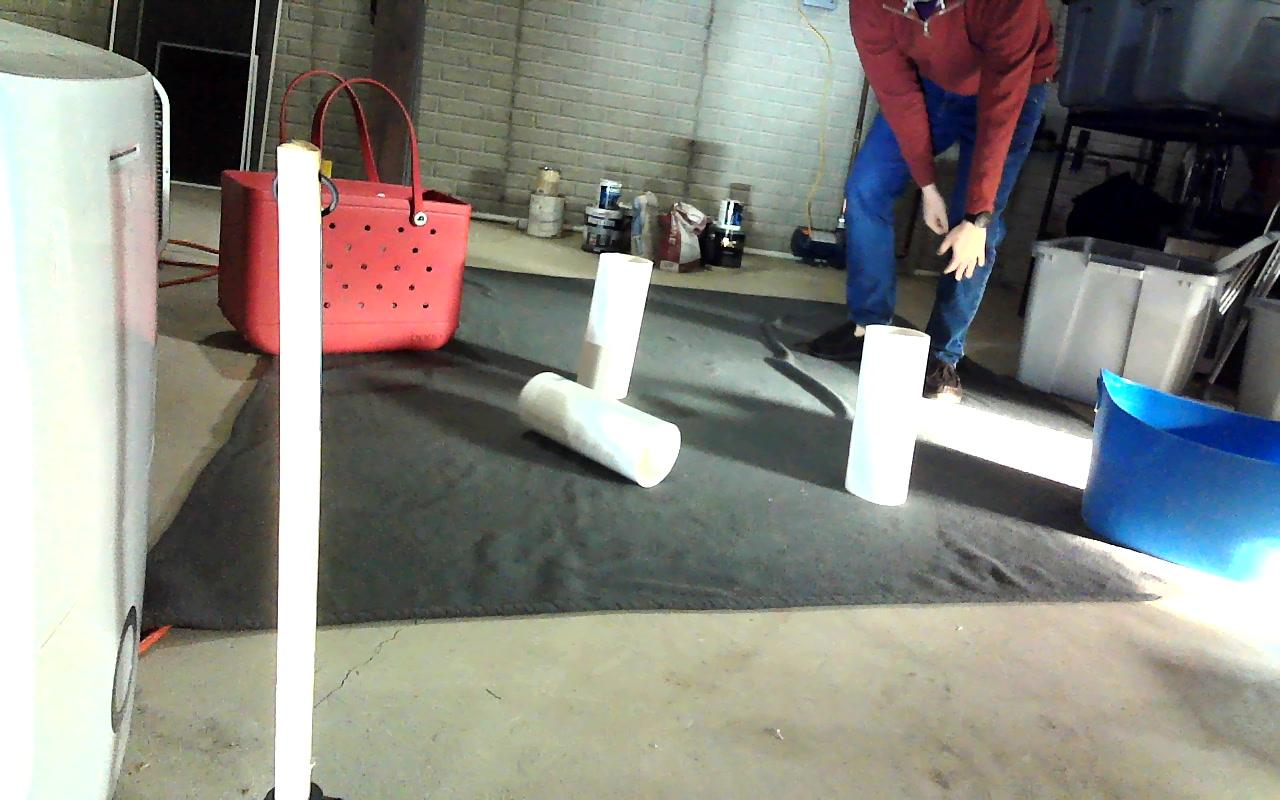coral: (518, 371, 680, 486), (845, 325, 928, 504), (574, 251, 652, 399)
